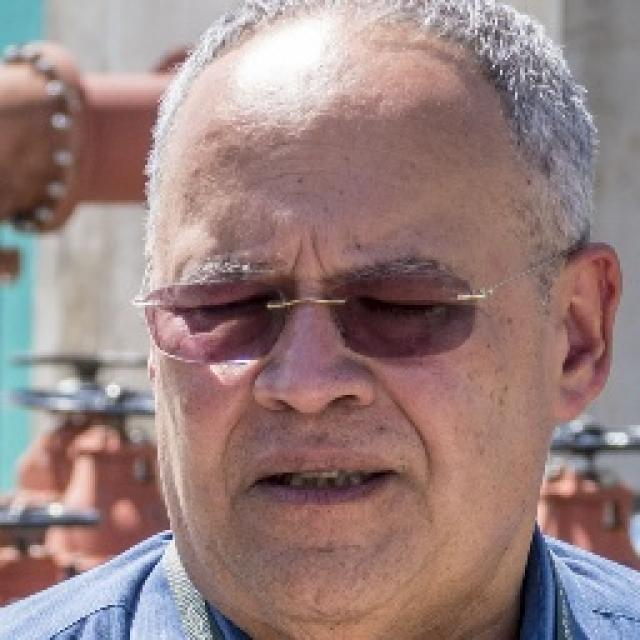earlobe: (552, 242, 622, 427)
